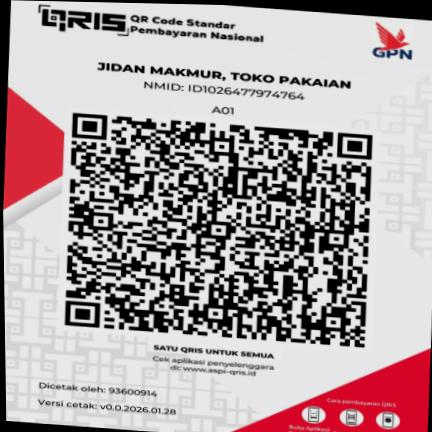Qris-Positioning: (3, 0, 432, 432)
